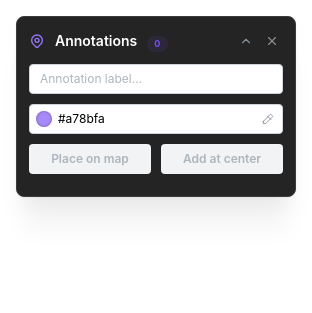
Test: AnnotatePanel › adds at the shared camera when no Cesium viewer answers
Type "Site A" into the field with placeholder "Annotation label…" at (156, 79), box [29, 64, 283, 94]
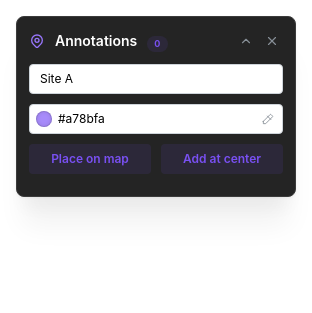
Click the button "Add at center" at (222, 159), box [161, 144, 283, 174]
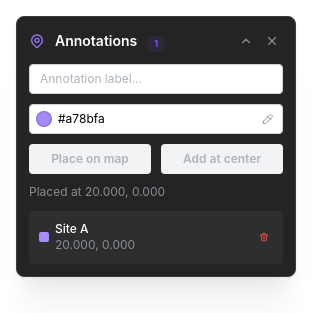
Result: the text "Site A" is shown at [55, 221, 88, 236]
Result: the text with test id "annotate-status" shows "Placed at" at [29, 184, 165, 199]
